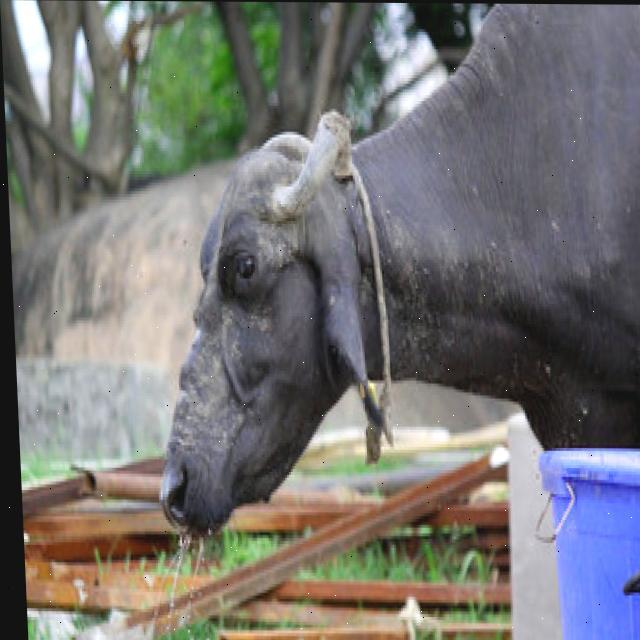Buffalo: (135, 1, 640, 544)
